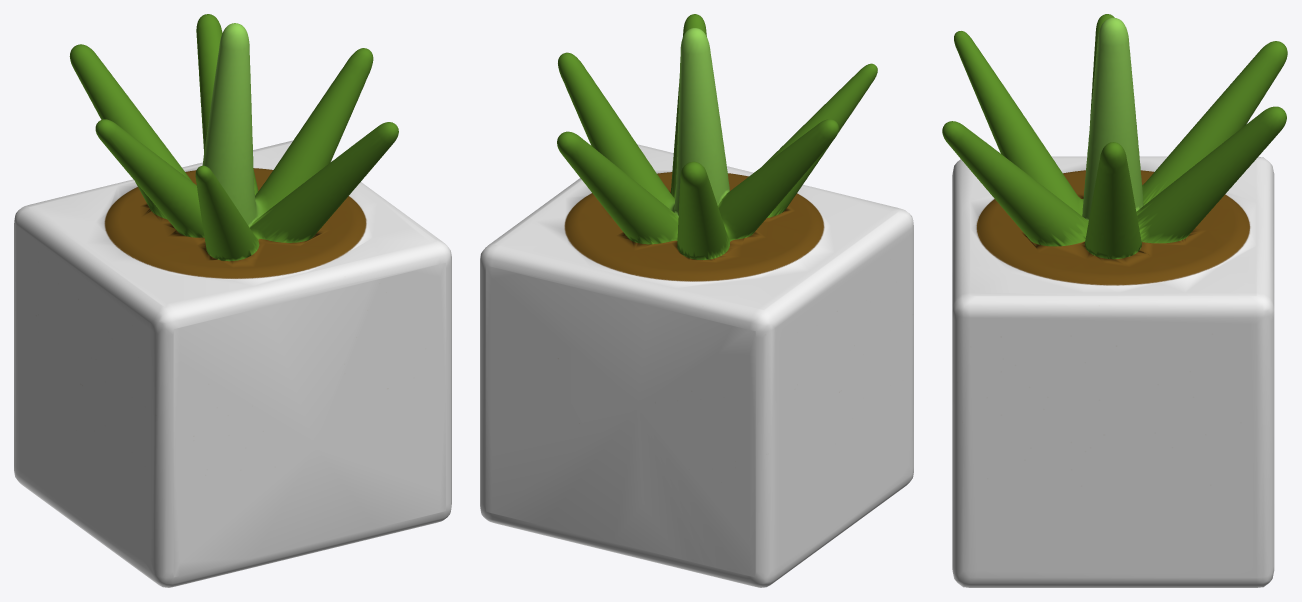
Rendered from Plant.glb.
The picture shows the model from 3 angles, left to right: view 1: azimuth 30°, elevation 25°; view 2: azimuth 150°, elevation 25°; view 3: azimuth 270°, elevation 25°; orthographic projection. The views are drawn at different scales.
Visible parts, largest first — view 1: Area (2); view 2: Area (2); view 3: Area (2).
Part boxes in pixels (box(x1,y1,x2,y2)): Area (2): box(14, 14, 451, 587); Area (2): box(480, 14, 913, 587); Area (2): box(942, 14, 1287, 587).
Bounding box in the file's own units: 148 × 229 × 143.
Materials: 1 (1 with a texture image).
